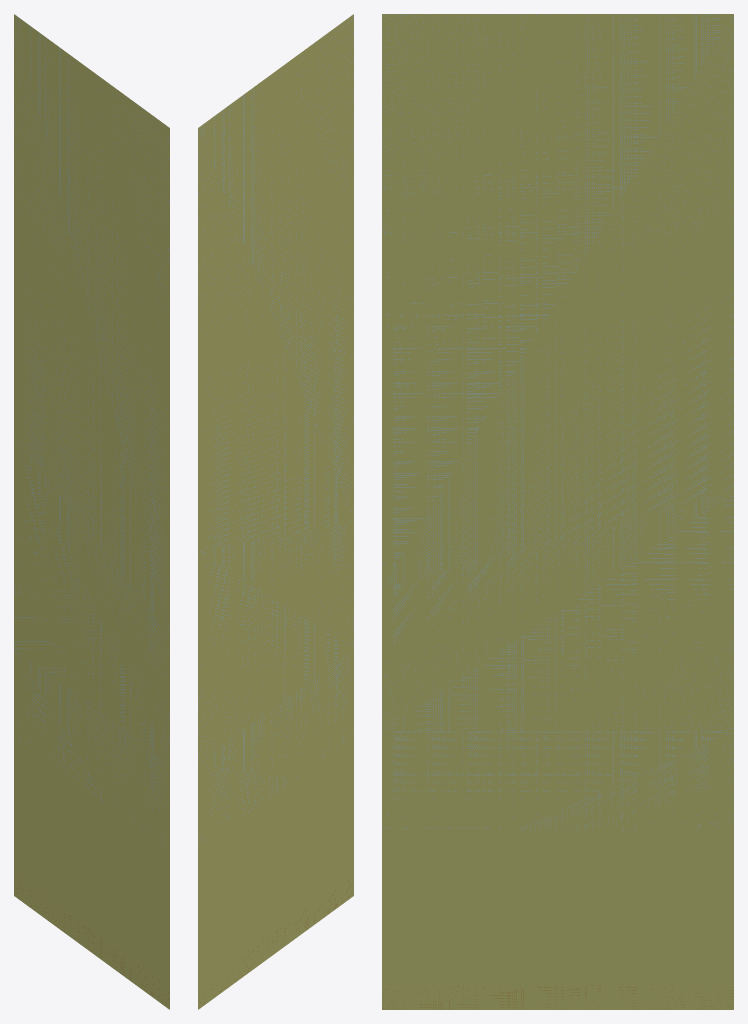
3 views of the same model, side by side, from view 1: azimuth 30°, elevation 25°; view 2: azimuth 150°, elevation 25°; view 3: azimuth 270°, elevation 25° (orthographic). The views are drawn at different scales.
Size of the model in its own units: 0 by 3.12 by 1.
1 material, 1 textured.
